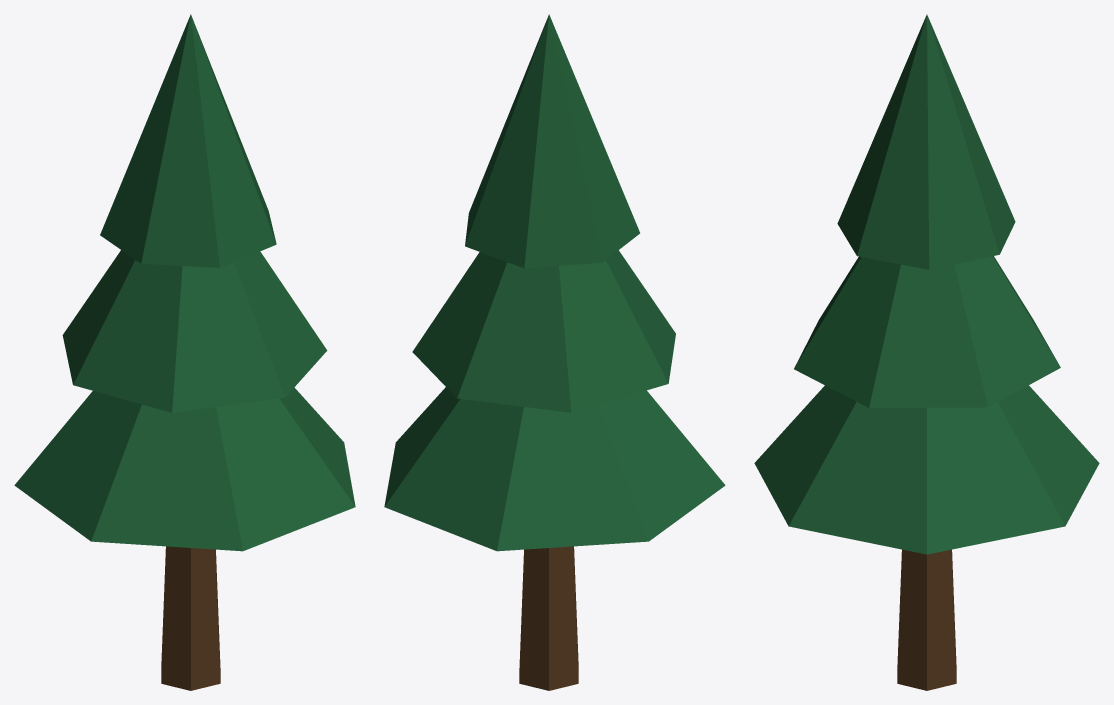
File: tree_pine.obj
3 views of the same model, side by side, from view 1: azimuth 30°, elevation 25°; view 2: azimuth 150°, elevation 25°; view 3: azimuth 270°, elevation 25° (orthographic).
Parts seen in each view (by area): view 1: tree_pine; view 2: tree_pine; view 3: tree_pine.
Part boxes in pixels (x1,y1,x2,y2): tree_pine: (14,14,355,690); tree_pine: (384,14,725,690); tree_pine: (754,14,1099,690).
Bounding box in the file's own units: 2.95 × 6.4 × 3.02.
